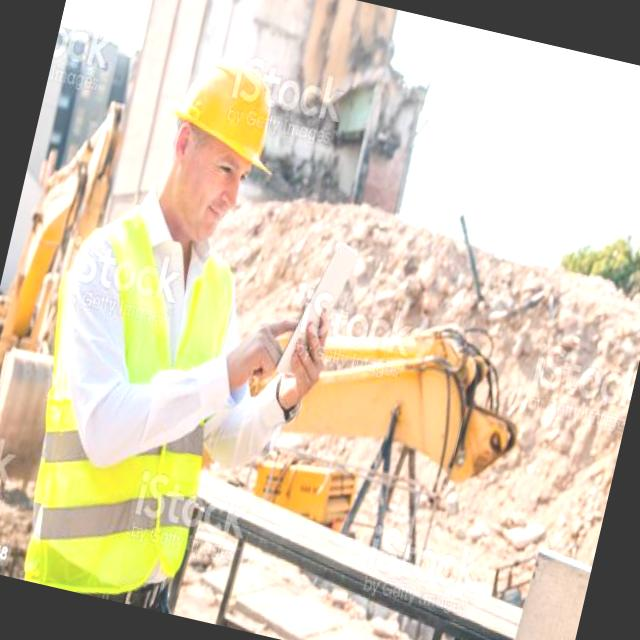helmet: (159, 42, 297, 192)
no-goggles: (164, 115, 266, 206)
vest: (0, 195, 263, 615)
